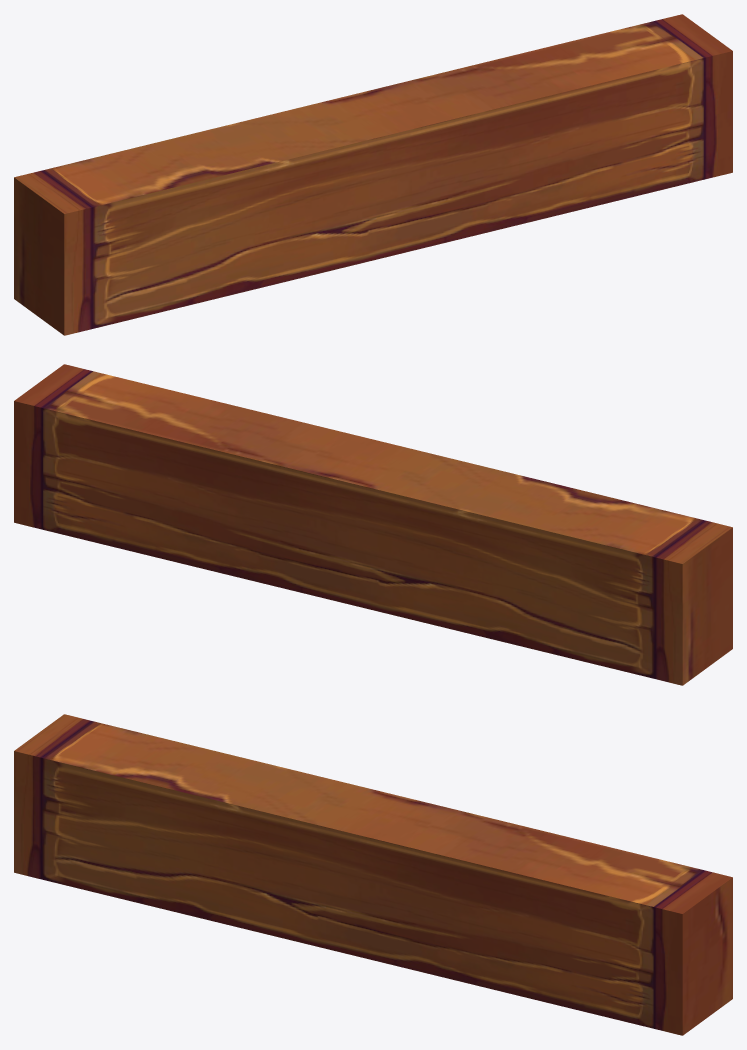
File: fence_wood_03.fbx
The picture shows the model from 3 angles, top to bottom: view 1: azimuth 30°, elevation 25°; view 2: azimuth 150°, elevation 25°; view 3: azimuth 330°, elevation 25°; orthographic projection.
Parts seen in each view (by area): view 1: fence_wood_03; view 2: fence_wood_03; view 3: fence_wood_03.
Boxes of the visible parts, x1,y1,x2,y2 form: fence_wood_03: (14, 14, 732, 335); fence_wood_03: (14, 364, 732, 685); fence_wood_03: (14, 714, 732, 1035).
Bounding box in the file's own units: 230 × 40 × 30.08.
